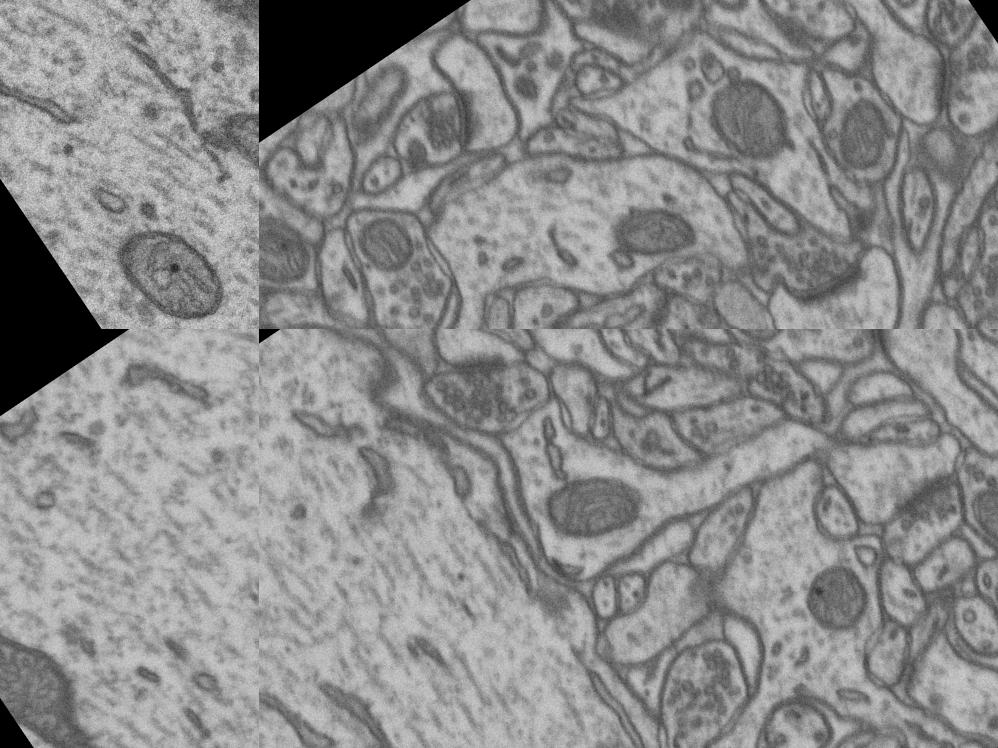mitochondria: (0, 599, 199, 748), (94, 183, 253, 329), (686, 47, 820, 190), (512, 444, 643, 576), (194, 42, 259, 292), (779, 537, 904, 665), (598, 176, 715, 292), (810, 74, 926, 191), (334, 188, 437, 292), (259, 271, 422, 329), (259, 196, 334, 308), (611, 403, 702, 490), (947, 455, 998, 556), (628, 0, 728, 43), (720, 329, 828, 367), (365, 329, 444, 376), (972, 554, 998, 643), (983, 432, 998, 511)
